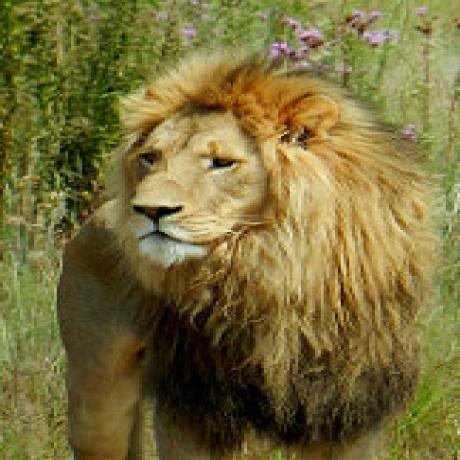Lion: (54, 51, 437, 460)
